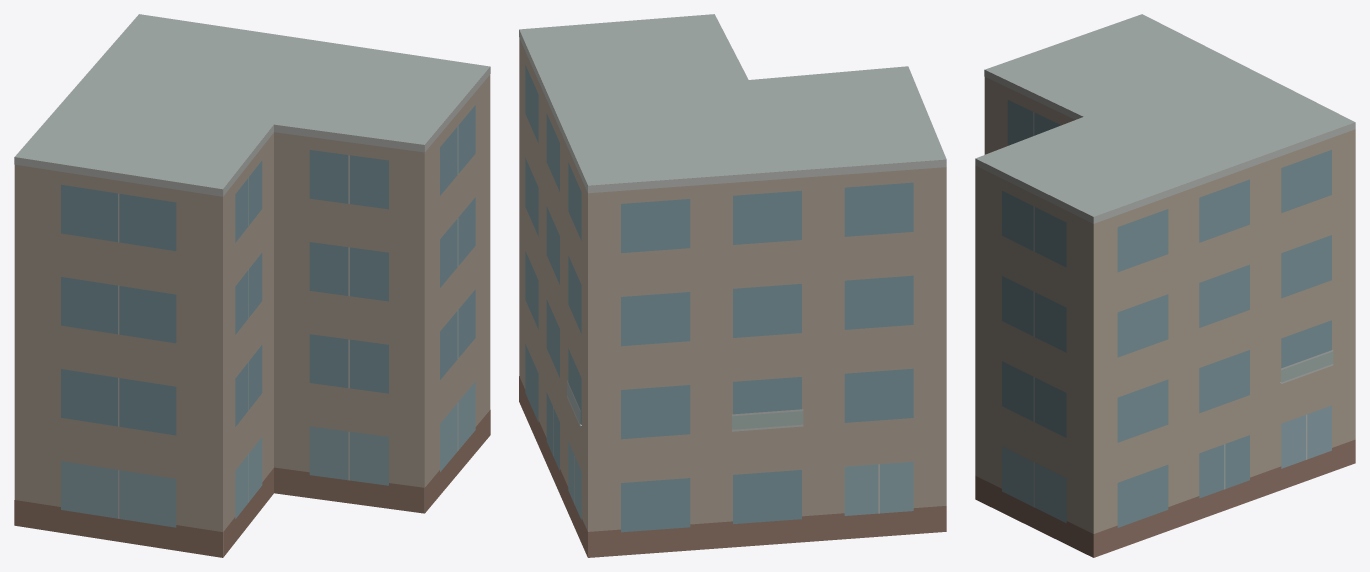
The model's file is survey-upis-33018004.glb.
3 views of the same model, side by side, from view 1: azimuth 30°, elevation 25°; view 2: azimuth 150°, elevation 25°; view 3: azimuth 270°, elevation 25° (orthographic). The views are drawn at different scales.
Parts seen in each view (by area): view 1: survey-upis-33018004.tmp; view 2: survey-upis-33018004.tmp; view 3: survey-upis-33018004.tmp.
Boxes of the visible parts, box(x1,y1,x2,y2) form: survey-upis-33018004.tmp: box(14, 14, 490, 557); survey-upis-33018004.tmp: box(519, 14, 946, 557); survey-upis-33018004.tmp: box(975, 14, 1355, 557).
Size of the model in its own units: 15.33 by 12 by 12.14.
